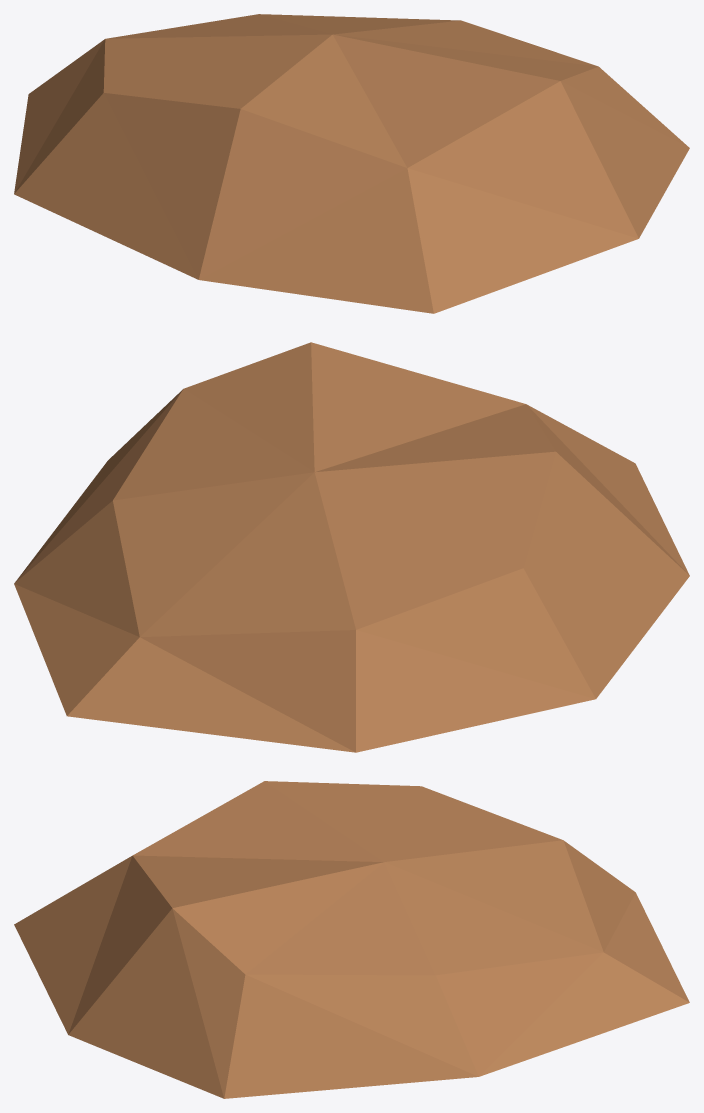
Rendered from Stone_5.fbx.
3 views of the same model, one above another, from view 1: azimuth 30°, elevation 25°; view 2: azimuth 150°, elevation 25°; view 3: azimuth 270°, elevation 25° (orthographic). The views are drawn at different scales.
Parts seen in each view (by area): view 1: Stone_5; view 2: Stone_5; view 3: Stone_5.
Part boxes in pixels (box(x1,y1,x2,y2)): Stone_5: box(14, 14, 689, 313); Stone_5: box(14, 342, 689, 752); Stone_5: box(14, 781, 689, 1098).
Bounding box in the file's own units: 205 × 227 × 45.09.
